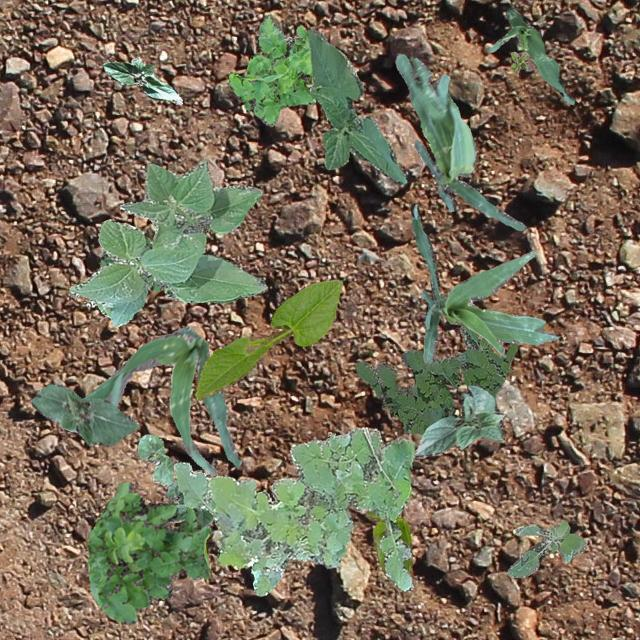crop: (68, 160, 266, 326), (409, 202, 558, 362), (82, 326, 240, 474), (394, 52, 524, 230), (195, 278, 342, 398), (306, 28, 406, 184), (486, 5, 574, 104), (31, 382, 138, 446), (412, 384, 503, 458), (102, 56, 182, 104), (366, 508, 412, 590), (165, 480, 212, 528), (136, 434, 172, 484)
weed: (172, 426, 414, 594), (354, 324, 516, 434), (85, 482, 208, 622), (228, 15, 314, 124), (506, 520, 586, 576), (100, 238, 160, 290), (510, 51, 528, 72)
